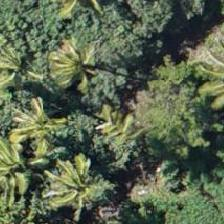coconut_tree: (24, 36, 114, 126), (21, 137, 111, 223), (0, 88, 84, 178)
